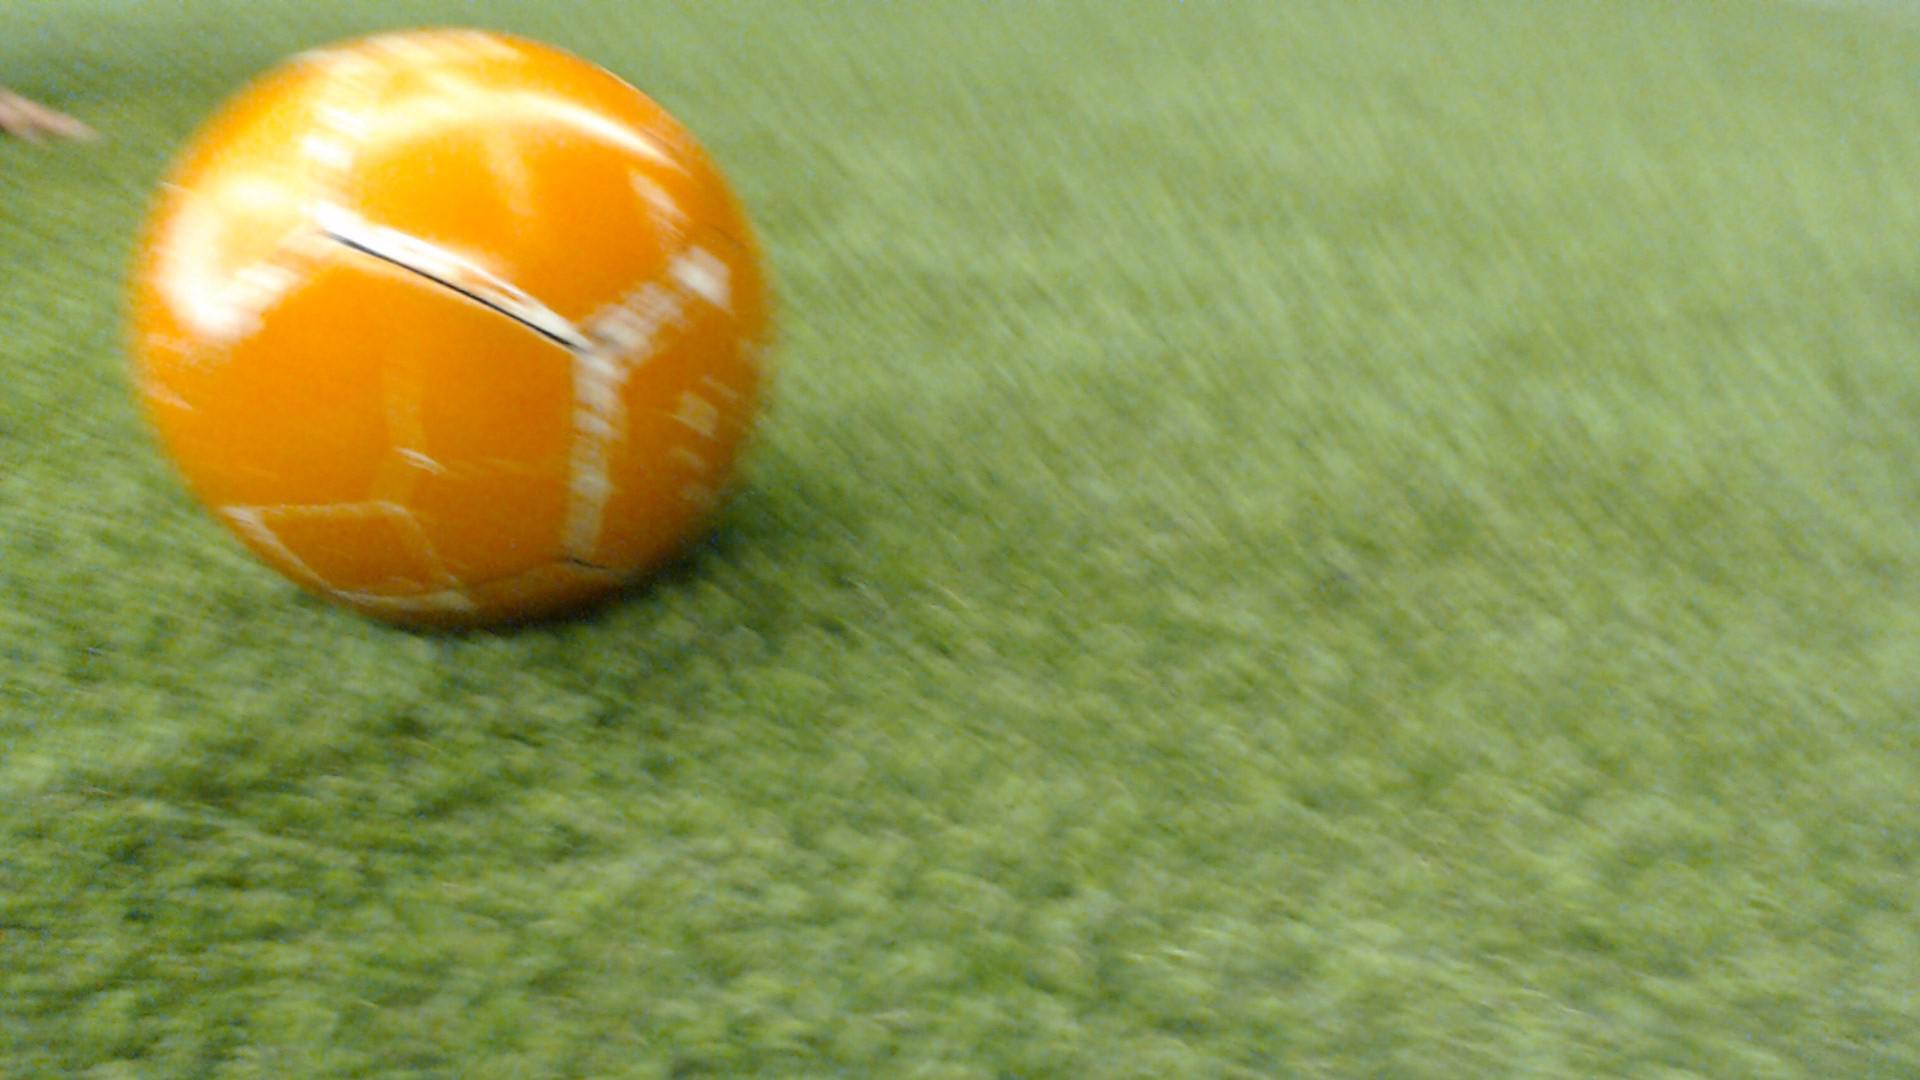bola: (87, 16, 829, 678)
